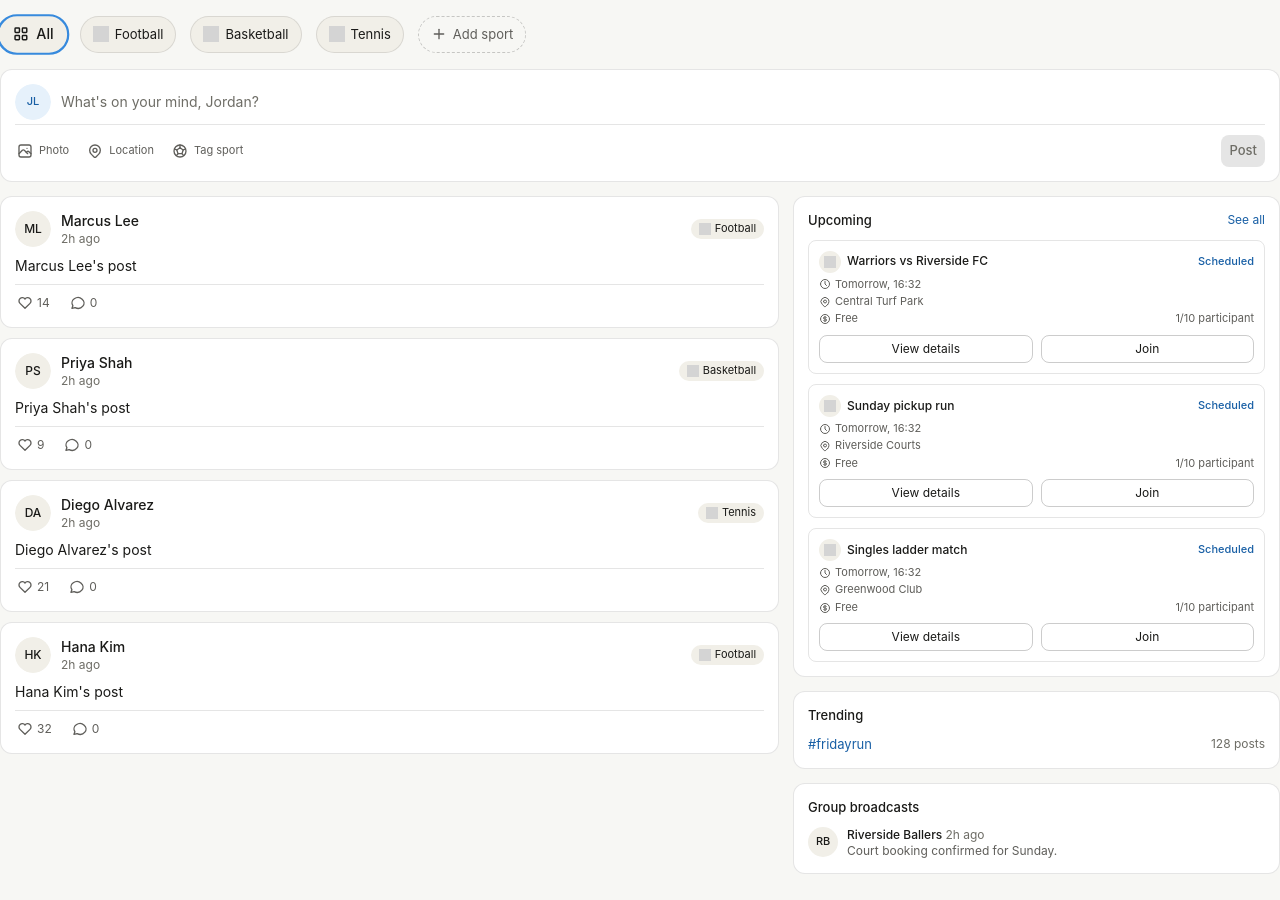
Test case: HomeFeedPage › "Add sport" with every catalogue sport held opens the explanatory dialog (SPORT-5)
What coordinates should you click on to do the following:
click the button "Add sport"
I would click on:
 (472, 34)
Its box is 418,16 -> 526,53.
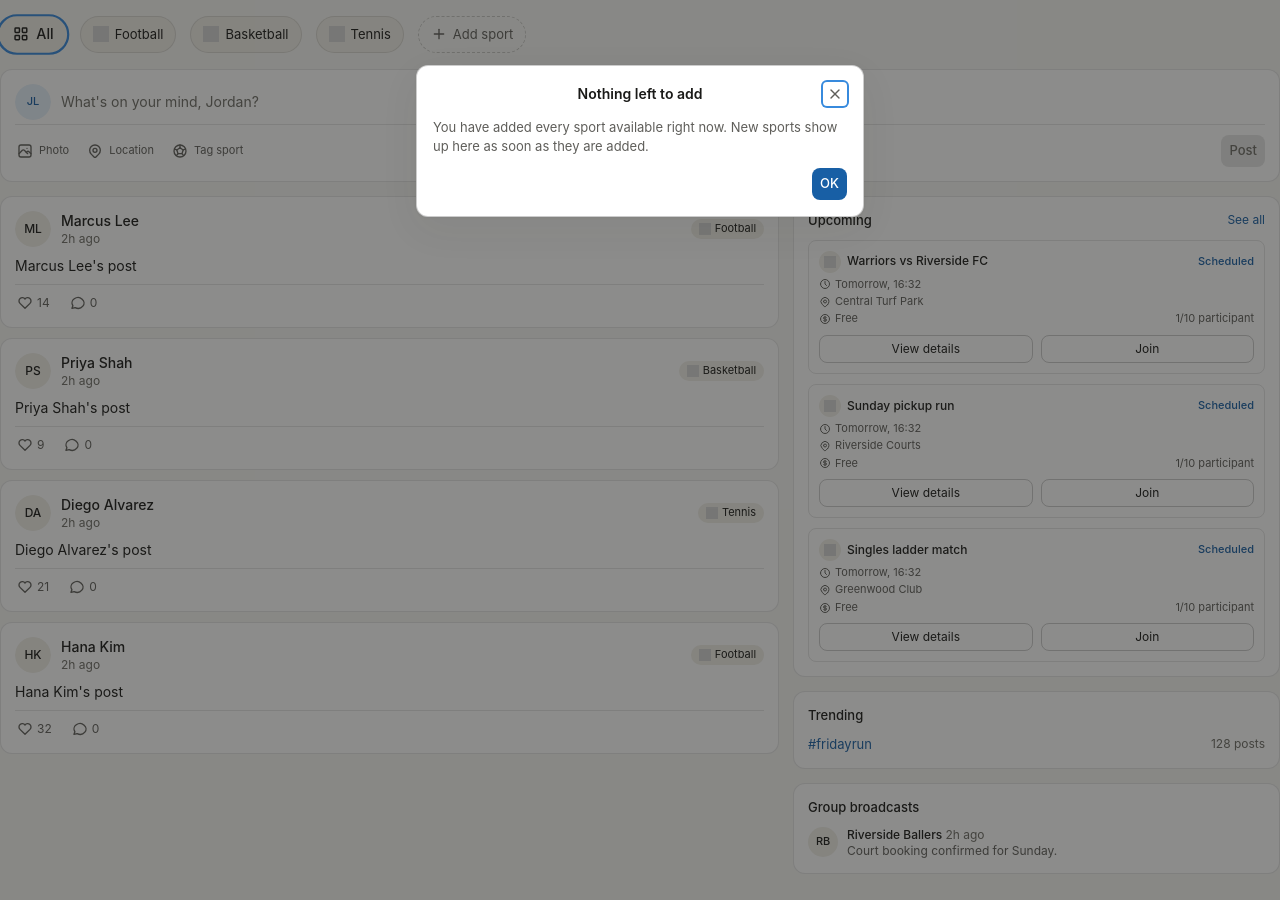
Now the heading "Nothing left to add" is shown, box 578,84 -> 702,104
